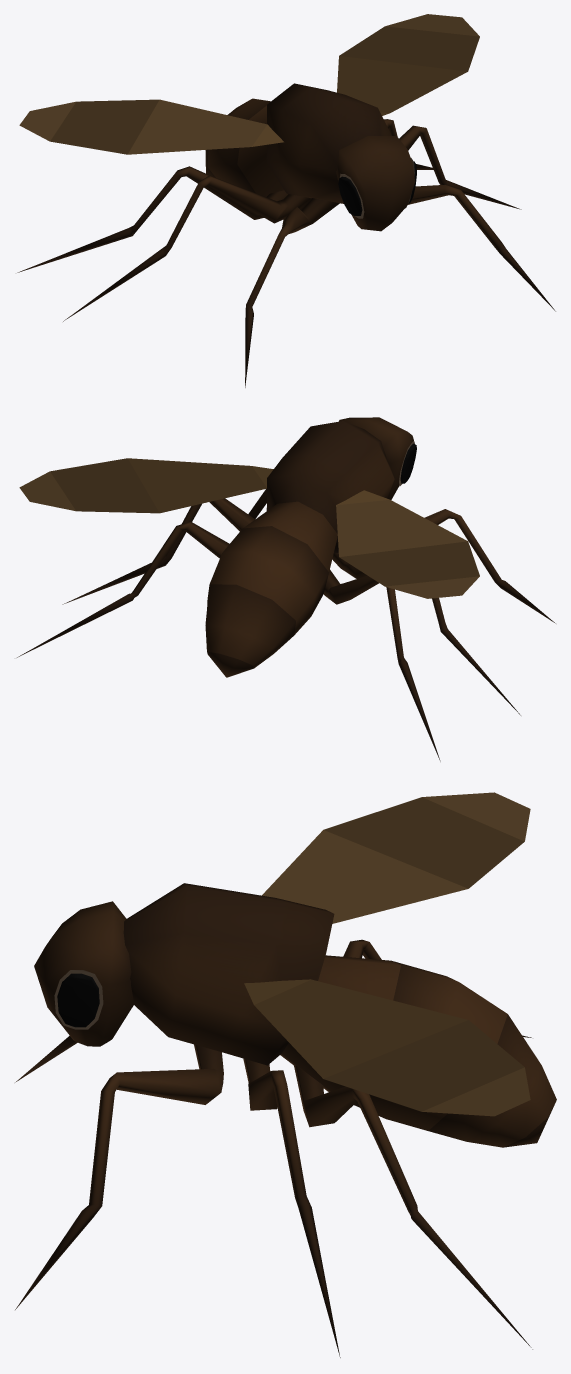
The model's file is animals-flyinginsects-drosophilamelanogaster_v1.fbx.
The picture shows the model from 3 angles, top to bottom: view 1: azimuth 30°, elevation 25°; view 2: azimuth 150°, elevation 25°; view 3: azimuth 270°, elevation 25°; orthographic projection. The views are drawn at different scales.
Visible parts, largest first — view 1: DrosophilaMelanogaster.001; view 2: DrosophilaMelanogaster.001; view 3: DrosophilaMelanogaster.001.
Boxes of the visible parts, x1,y1,x2,y2 form: DrosophilaMelanogaster.001: (17,14,555,387); DrosophilaMelanogaster.001: (17,417,555,761); DrosophilaMelanogaster.001: (15,792,556,1357).
Size of the model in its own units: 0.1033 by 0.0444 by 0.0701.
